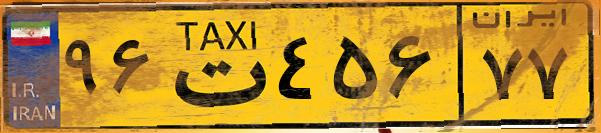4: (270, 28, 330, 110)
5: (330, 28, 385, 110)
6: (385, 28, 445, 110), (110, 28, 158, 98)
7: (475, 38, 525, 113), (525, 38, 570, 115)
9: (57, 26, 110, 100)
ت: (158, 12, 270, 120)
